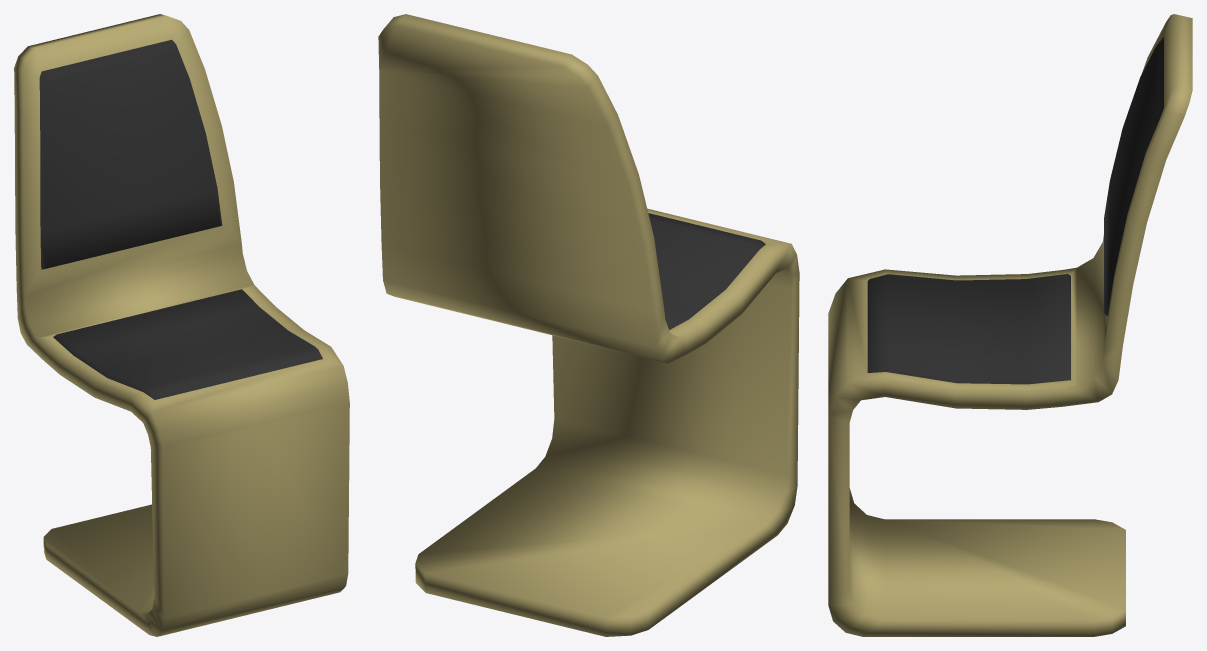
File: ChairType3.fbx
3 views of the same model, side by side, from view 1: azimuth 30°, elevation 25°; view 2: azimuth 150°, elevation 25°; view 3: azimuth 270°, elevation 25° (orthographic). The views are drawn at different scales.
Visible parts, largest first — view 1: Chair Type 3; view 2: Chair Type 3; view 3: Chair Type 3.
Part boxes in pixels (left/top/right/bottom): Chair Type 3: left=14, top=14, right=349, bottom=636; Chair Type 3: left=378, top=14, right=799, bottom=636; Chair Type 3: left=828, top=14, right=1192, bottom=636.
Size of the model in its own units: 42.5 by 88.94 by 54.71.
